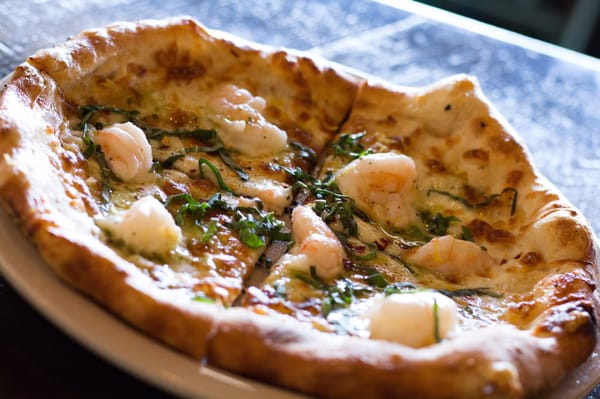sandwich: (1, 18, 598, 396)
